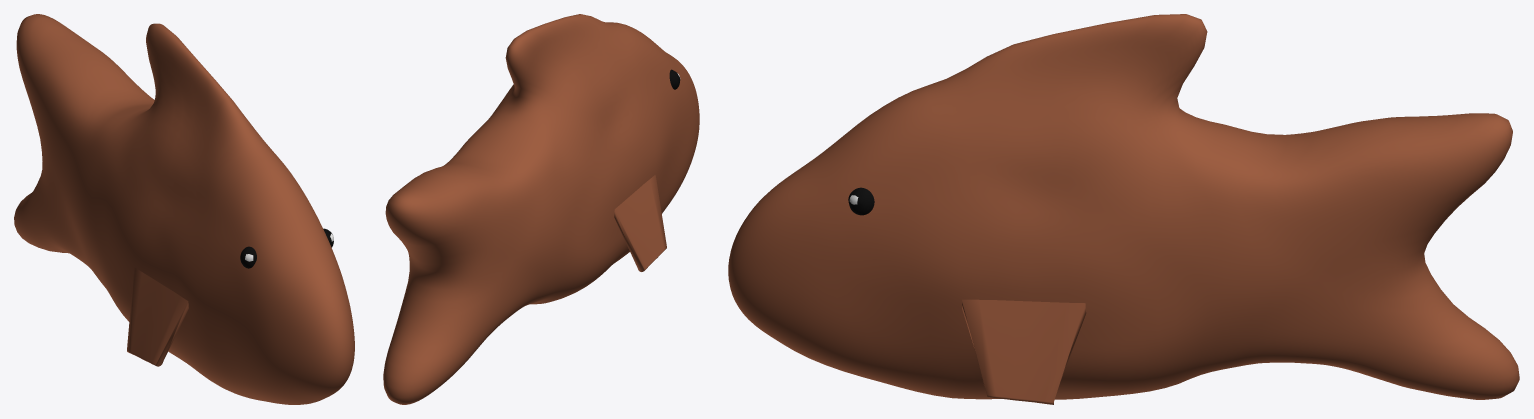
File: fish.fbx
The picture shows the model from 3 angles, left to right: view 1: azimuth 30°, elevation 25°; view 2: azimuth 150°, elevation 25°; view 3: azimuth 270°, elevation 25°; orthographic projection. The views are drawn at different scales.
Parts seen in each view (by area): view 1: Cube, Cube.001, Sphere; view 2: Cube, Cube.001; view 3: Cube, Cube.001.
Part boxes in pixels (x1,y1,x2,y2): Cube: [14, 14, 354, 404]; Cube.001: [127, 267, 188, 366]; Sphere: [240, 228, 333, 268]; Cube: [383, 14, 699, 404]; Cube.001: [614, 175, 666, 271]; Cube: [728, 14, 1519, 399]; Cube.001: [962, 299, 1086, 404].
Bounding box in the file's own units: 93.72 × 161 × 302.
